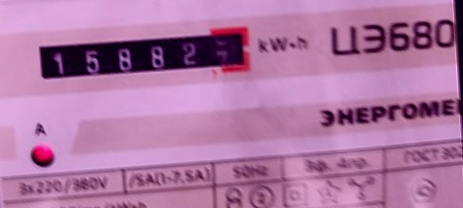1: (51, 51, 67, 77)
2: (181, 41, 197, 66)
5: (83, 48, 101, 75)
7: (214, 47, 230, 67)
8: (116, 47, 134, 74), (149, 44, 166, 70)
screen: (24, 18, 261, 95)
